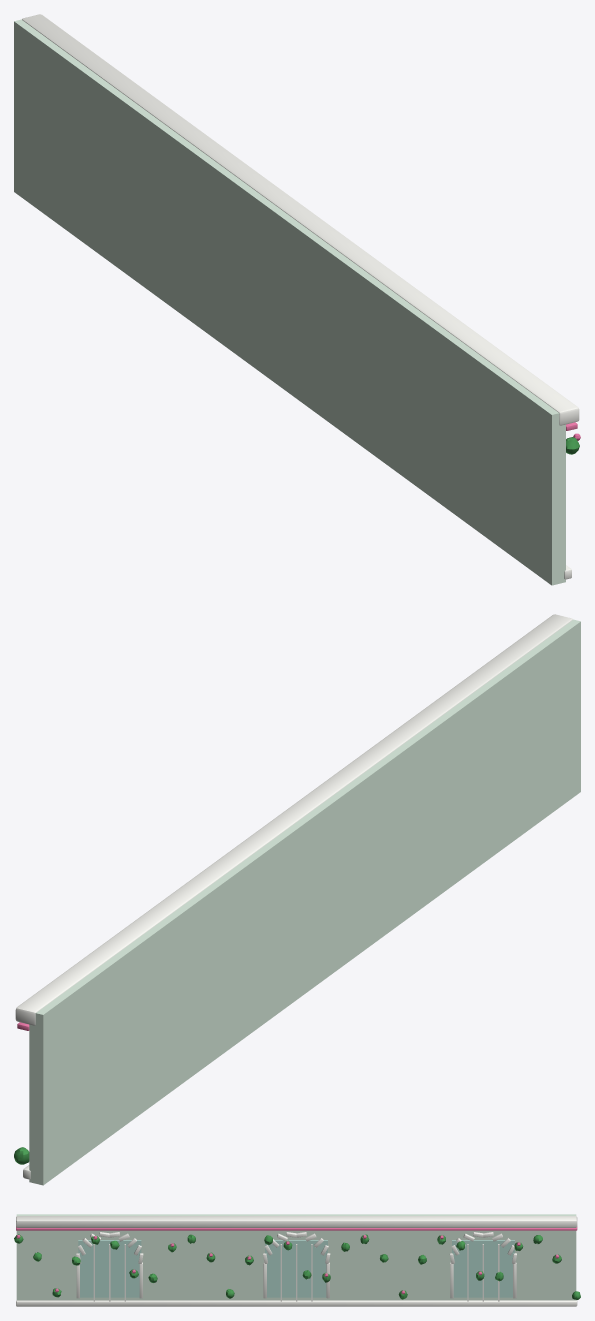
The model's file is WallGarden.fbx.
The picture shows the model from 3 angles, top to bottom: view 1: azimuth 30°, elevation 25°; view 2: azimuth 150°, elevation 25°; view 3: azimuth 270°, elevation 25°; orthographic projection. The views are drawn at different scales.
Visible parts, largest first — view 1: WallGarden; view 2: WallGarden; view 3: WallGarden.
Part boxes in pixels (<box>): WallGarden: <box>14,14,580,585</box>; WallGarden: <box>14,614,580,1185</box>; WallGarden: <box>14,1214,580,1306</box>.
Bounding box in the file's own units: 256 × 1410 × 8104.
